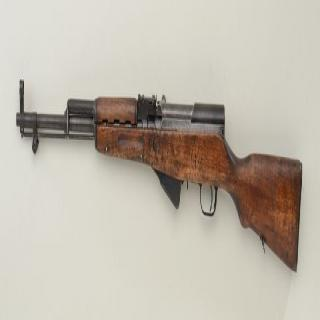gun: (9, 56, 306, 291)
